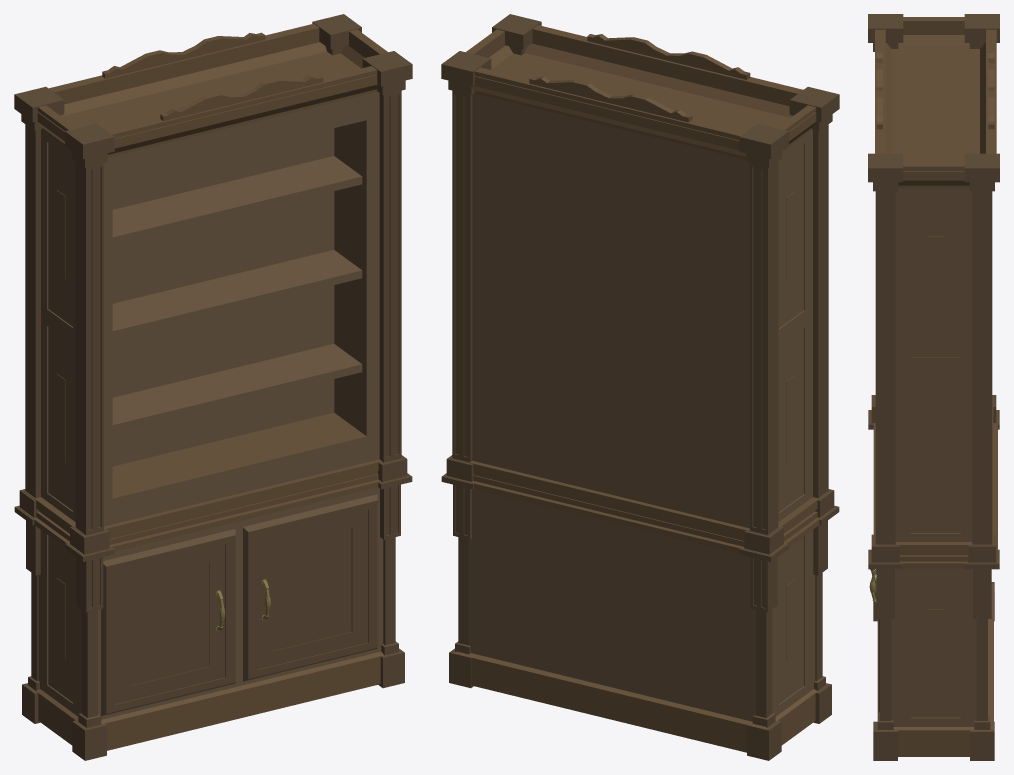
Rendered from bookcase.glb.
3 renders of one model, left to right at view 1: azimuth 30°, elevation 25°; view 2: azimuth 150°, elevation 25°; view 3: azimuth 270°, elevation 25°, orthographic. The views are drawn at different scales.
Parts seen in each view (by area): view 1: BookCase_Single_Cube, BookCase_RightDoor_Cube.005, BookCase_LeftDoor_Cube.001; view 2: BookCase_Single_Cube; view 3: BookCase_Single_Cube, BookCase_RightDoor_Cube.005.
Boxes of the visible parts, left/top/right/bottom form: BookCase_Single_Cube: left=14, top=14, right=412, bottom=760; BookCase_RightDoor_Cube.005: left=243, top=494, right=377, bottom=681; BookCase_LeftDoor_Cube.001: left=101, top=529, right=235, bottom=716; BookCase_Single_Cube: left=441, top=14, right=839, bottom=760; BookCase_Single_Cube: left=868, top=14, right=999, bottom=760; BookCase_RightDoor_Cube.005: left=869, top=569, right=879, bottom=712.
Size of the model in its own units: 1.84 by 3.37 by 0.6644.
